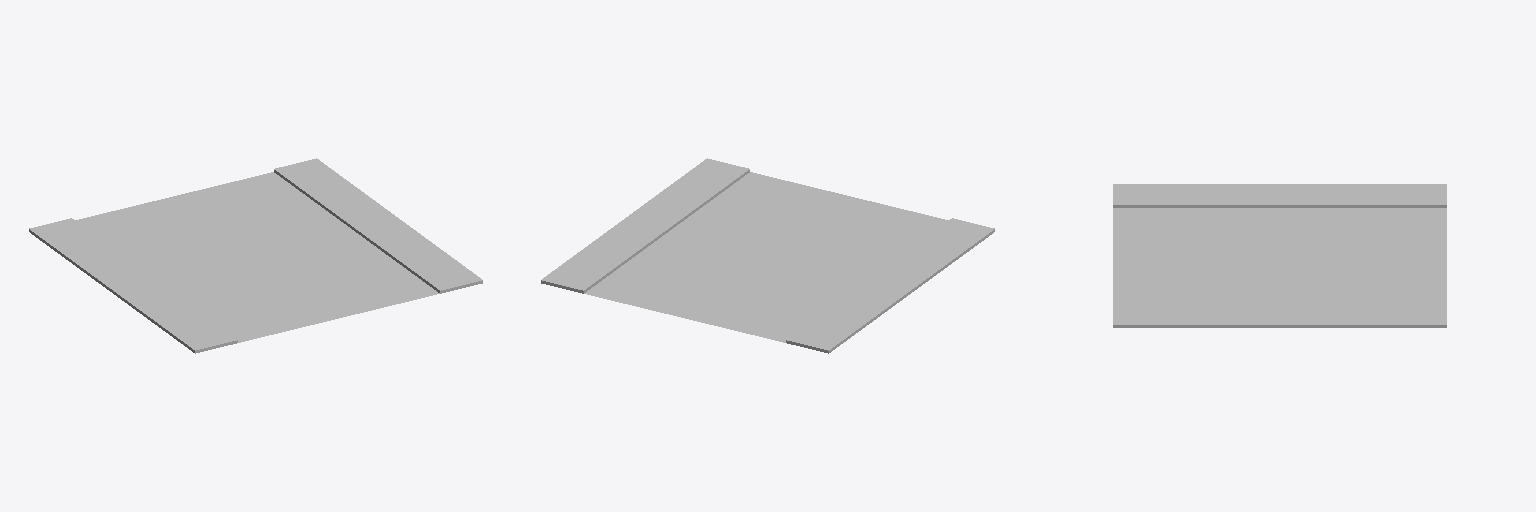
File: road_lane.obj
The picture shows the model from 3 angles: view 1: azimuth 30°, elevation 25°; view 2: azimuth 150°, elevation 25°; view 3: azimuth 270°, elevation 25°; orthographic projection.
Parts seen in each view (by area): view 1: Road_Lane_01; view 2: Road_Lane_01; view 3: Road_Lane_01.
Part boxes in pixels (x1,y1,x2,y2): Road_Lane_01: (29, 158, 482, 353); Road_Lane_01: (541, 158, 994, 353); Road_Lane_01: (1113, 184, 1446, 327).
Size of the model in its own units: 16.32 by 0.1632 by 16.32.